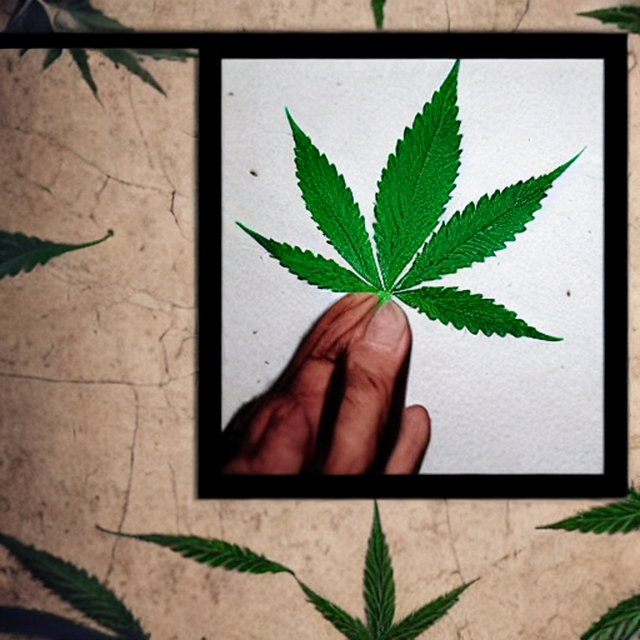Marijuana Leaf: (234, 57, 586, 345)
